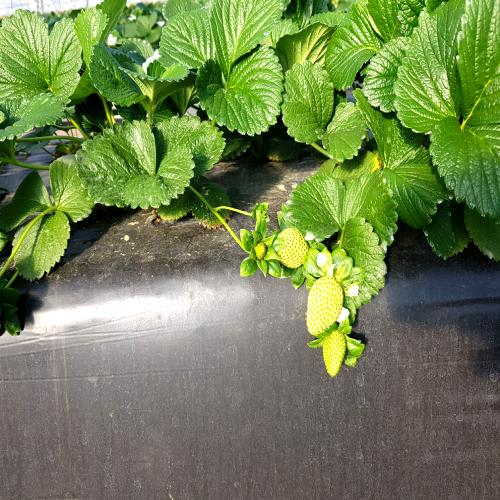unripe: (303, 275, 345, 340)
